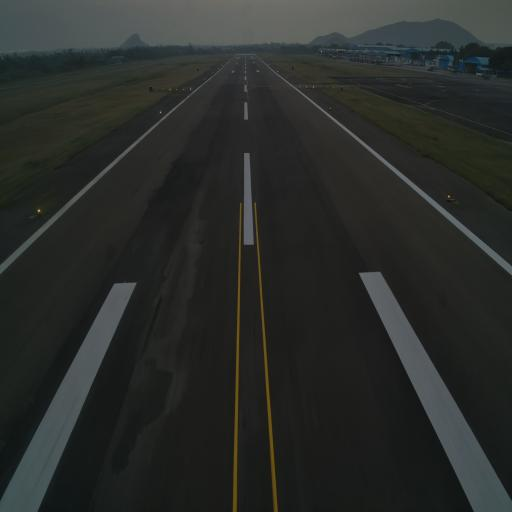on: (36, 206, 42, 218), (447, 191, 453, 201), (328, 106, 332, 111), (159, 109, 162, 115)
